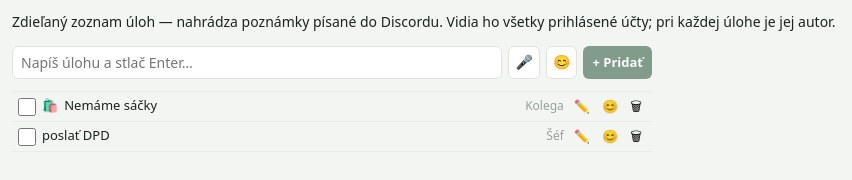
uloženie textu riadku A (ešte čakajúce na odpoveď) nesmie zavrieť editor riadku B otvorený medzitým
Expected: the element with test id "uloha-row-task-a" is shown, [12,122,652,152]
Note: Otvoriť editor riadku A a uložiť — odpoveď zatiaľ NEDORAZILA.
Click the button with test id "uloha-edit-task-a" at point(582, 137), box [570,126,594,147]
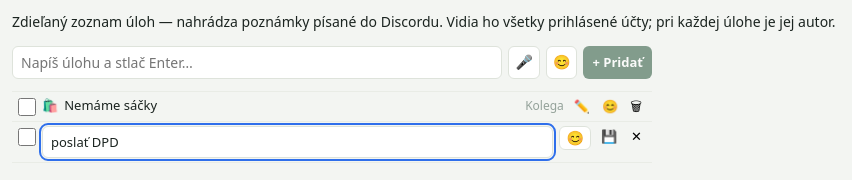
Click the button with test id "uloha-edit-save-task-a" at point(609, 137), box [597,126,621,147]
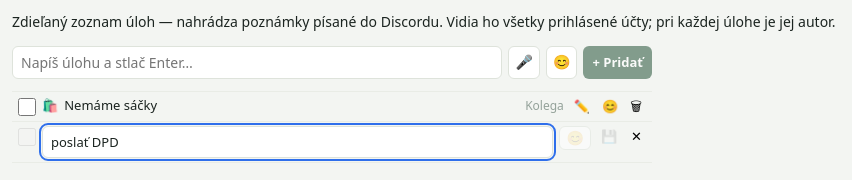
Note: Kým A čaká, otvoriť editor riadku B (appka dovolí len JEDEN naraz).
Click the button with test id "uloha-edit-task-b" at point(582, 107), box [570,96,594,117]
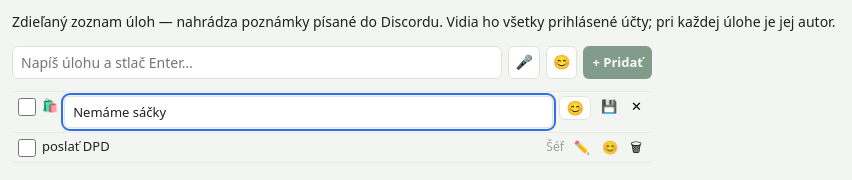
Now the field with test id "uloha-edit-input-task-b" is shown, box [64,96,553,128]
